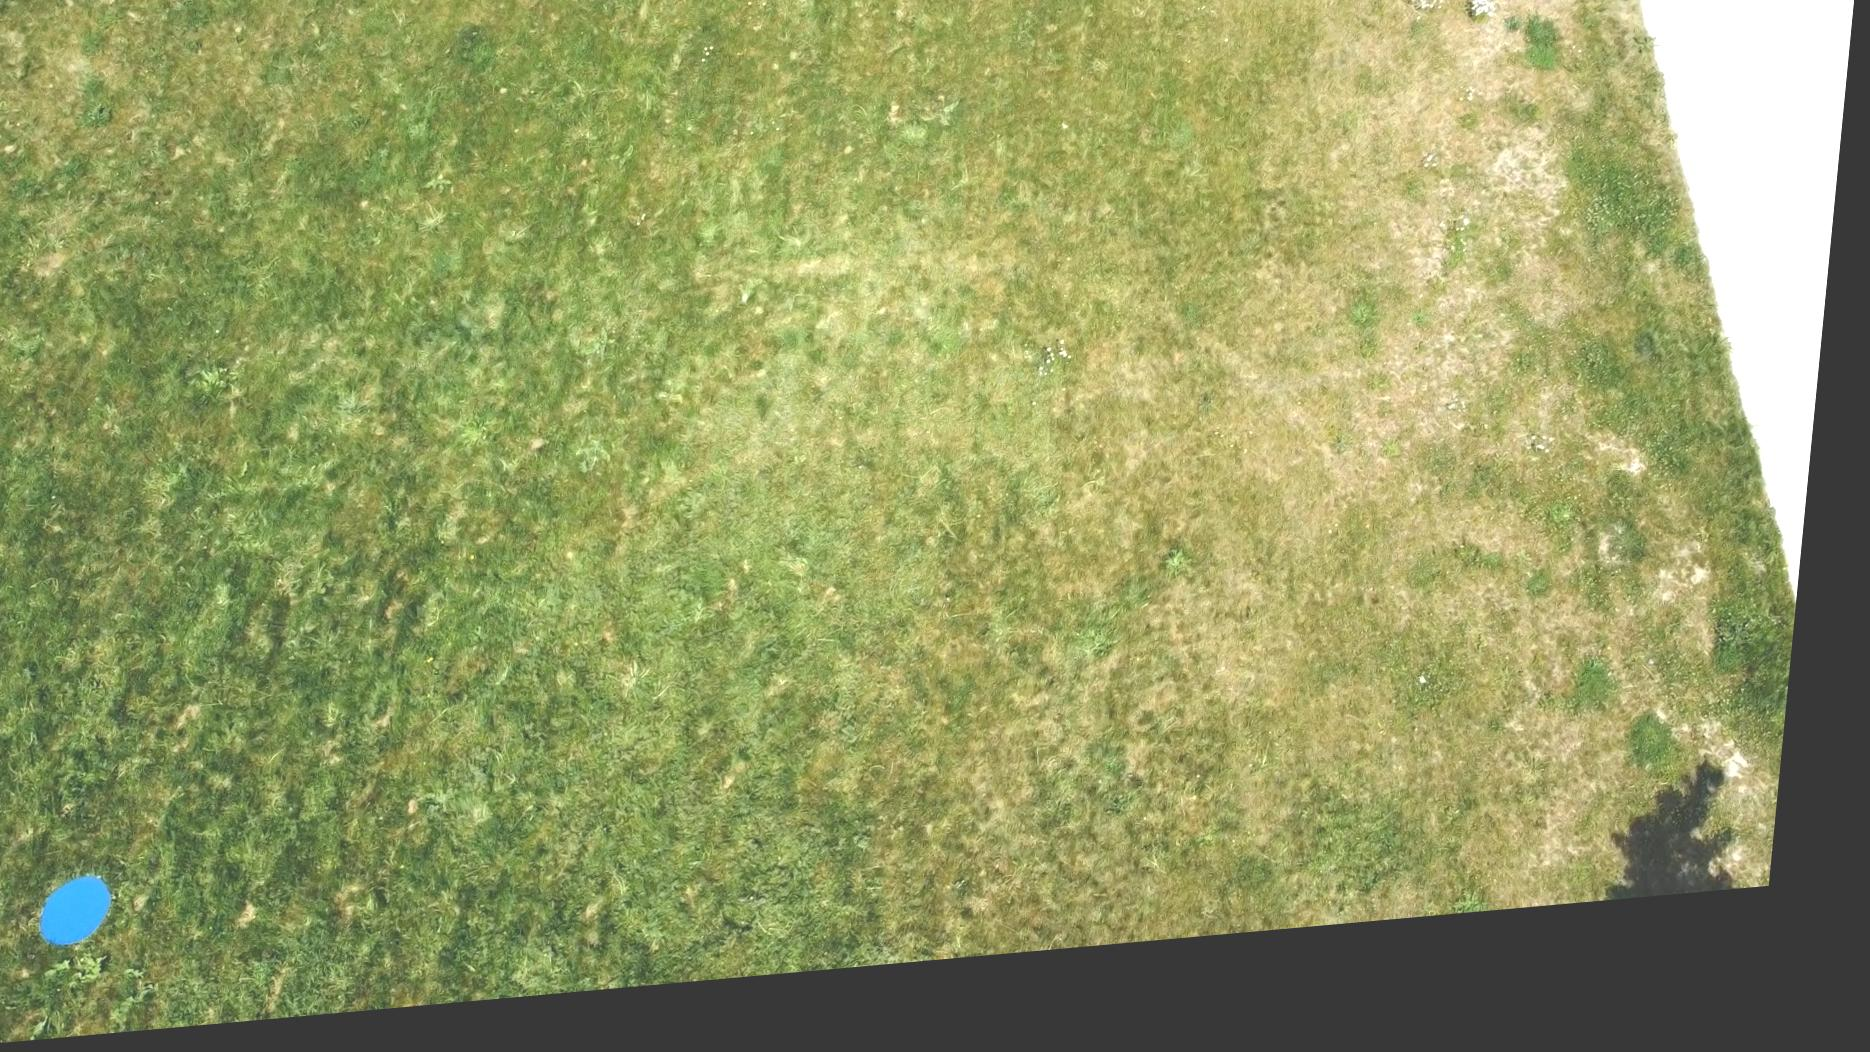Blue: (53, 875, 134, 953)
